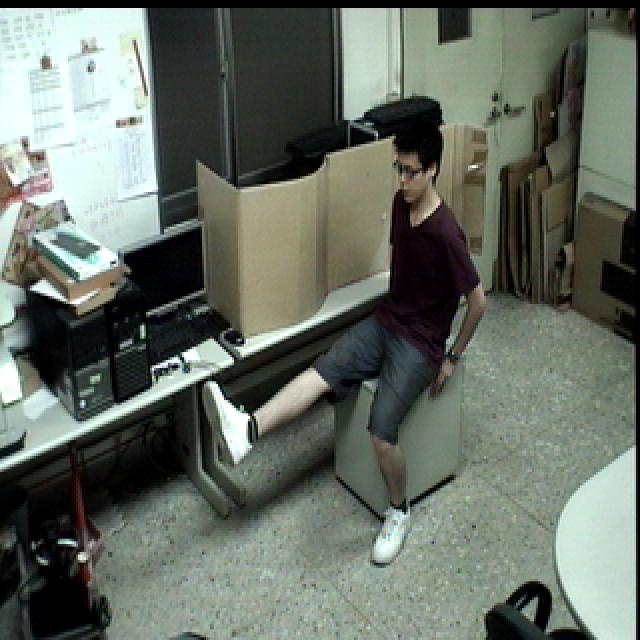sit: (190, 114, 495, 566)
